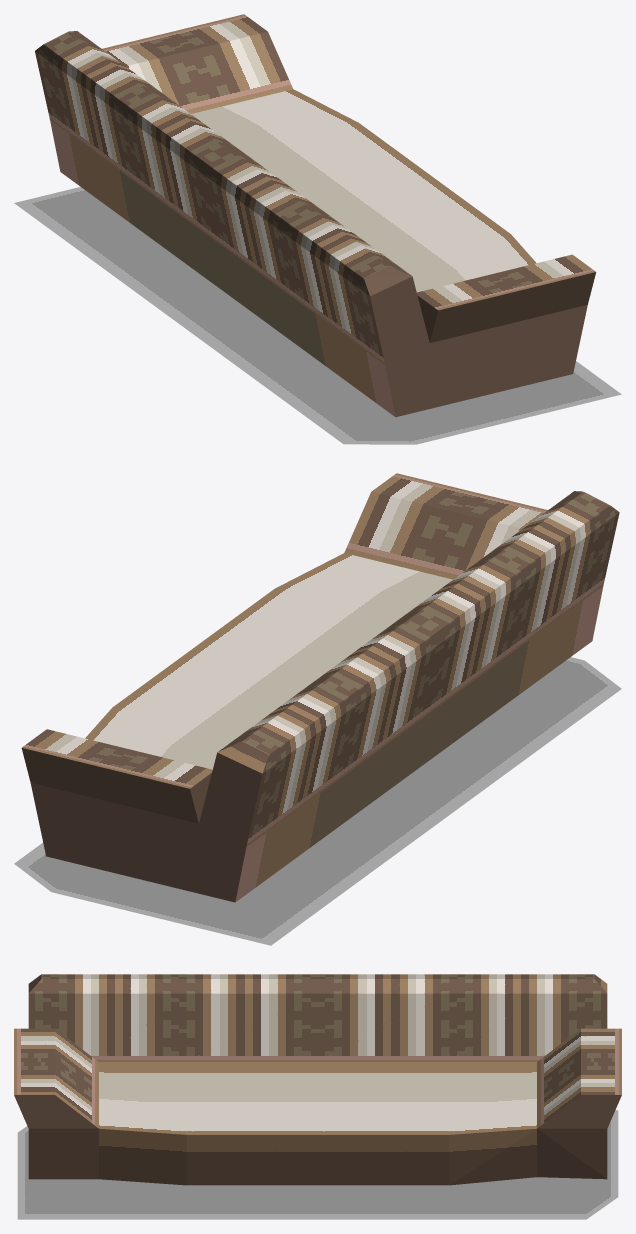
3 views of the same model, one above another, from view 1: azimuth 30°, elevation 25°; view 2: azimuth 150°, elevation 25°; view 3: azimuth 270°, elevation 25° (orthographic). The views are drawn at different scales.
Visible parts, largest first — view 1: polygon0, polygon1; view 2: polygon0, polygon1; view 3: polygon0, polygon1.
Boxes of the visible parts, x1,y1,x2,y2 form: polygon0: [35, 14, 596, 417]; polygon1: [14, 187, 621, 444]; polygon0: [21, 473, 619, 902]; polygon1: [14, 657, 621, 945]; polygon0: [14, 974, 621, 1185]; polygon1: [17, 1110, 618, 1219].
Size of the model in its own units: 4.43 by 2.8 by 10.41.
